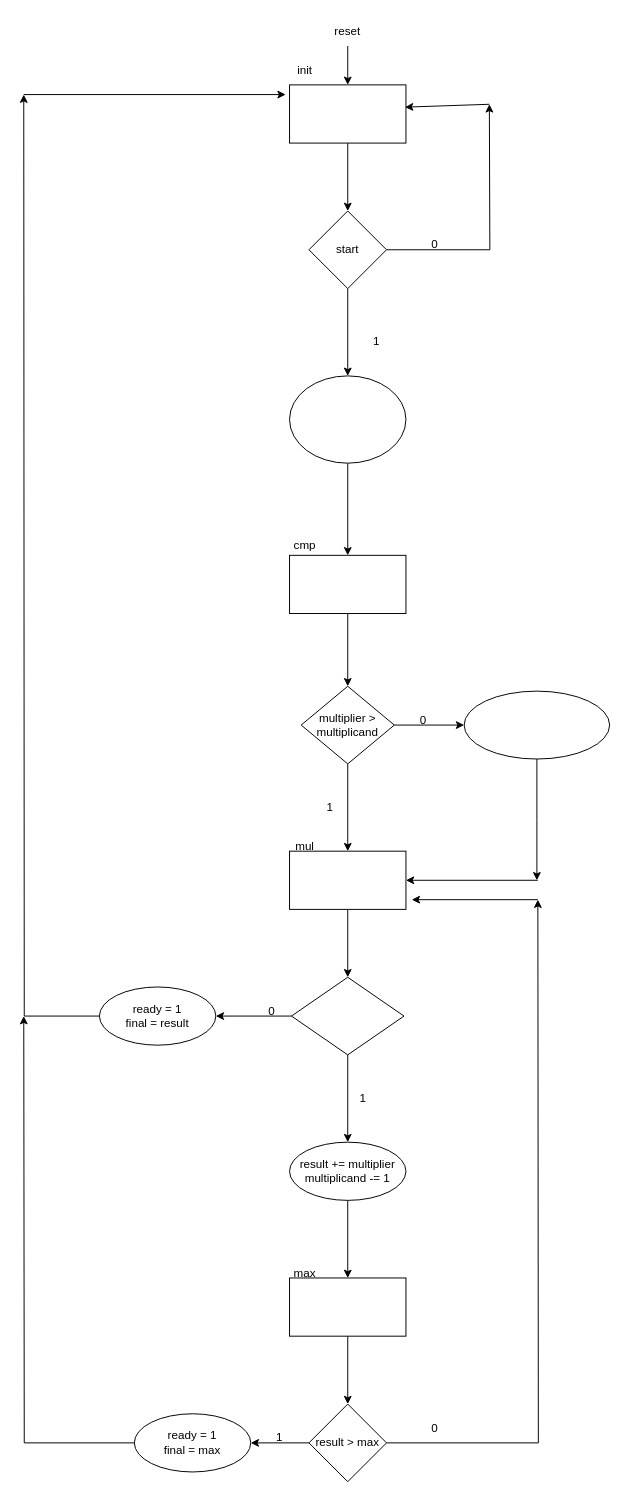
Image size: 627x1499. Some labels were removed from this diagram. Here are the shapes that lost their labels. From the top down, the centre of each, then its label:
At pixel 347 419: "multiplier = A multiplicanc = B max = C ready = 0 resul = 0".
At pixel 536 724: "multiplicand = multiplier multiplier = multplicand".
At pixel 347 1015: "OR(multiplicand)".
